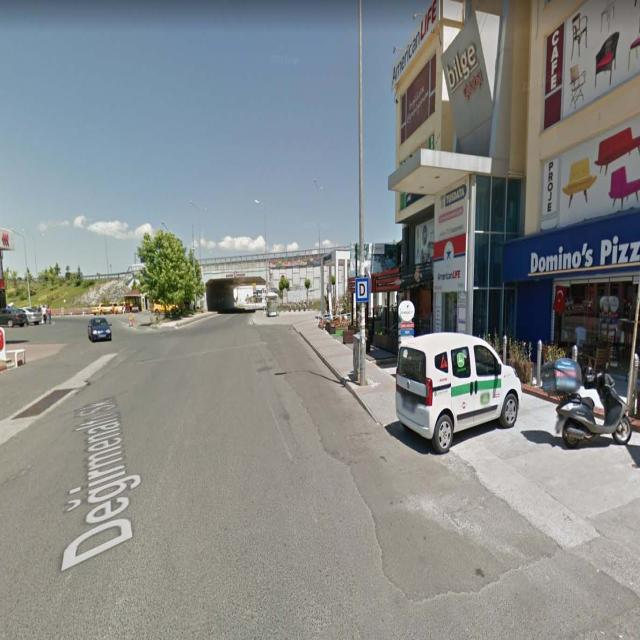durak: (356, 278, 369, 300)
